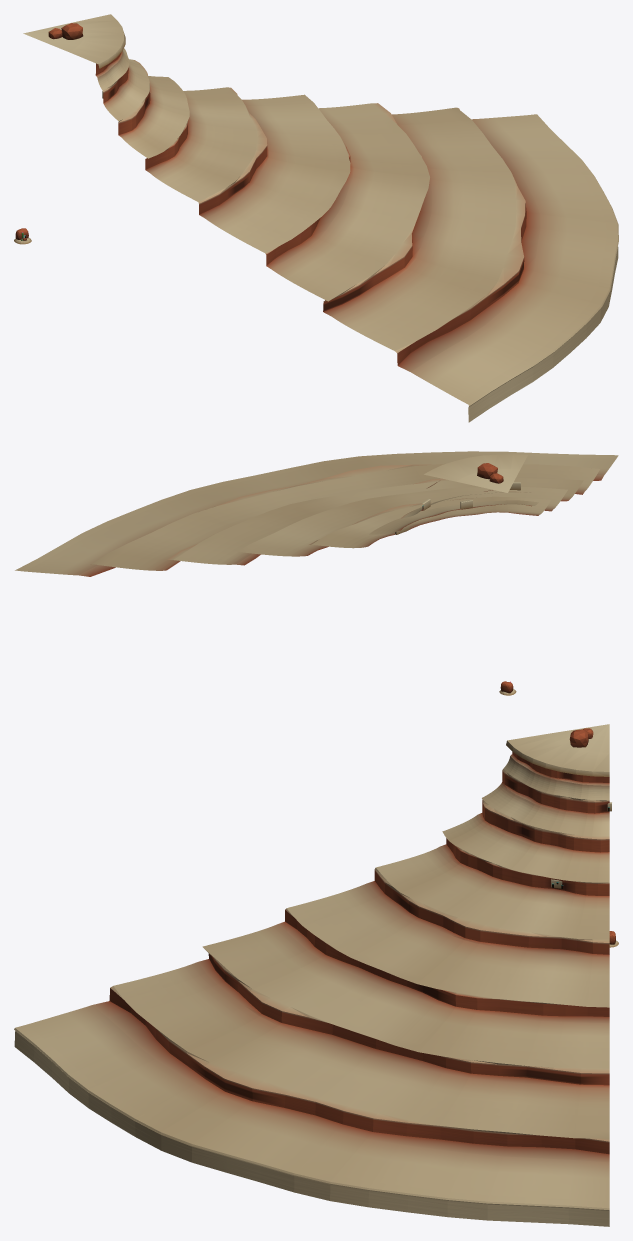
File: canyon-s2-BfCddb5y.glb
3 views of the same model, one above another, from view 1: azimuth 30°, elevation 25°; view 2: azimuth 150°, elevation 25°; view 3: azimuth 270°, elevation 25° (orthographic). The views are drawn at different scales.
Visible parts, largest first — view 1: sc_landmark_4; view 2: sc_landmark_4; view 3: sc_landmark_4.
Boxes of the visible parts, <box> form: sc_landmark_4: <box>23,14,618,422</box>; sc_landmark_4: <box>15,451,618,576</box>; sc_landmark_4: <box>14,724,611,1226</box>.
Size of the model in its own units: 434 by 186 by 411.
